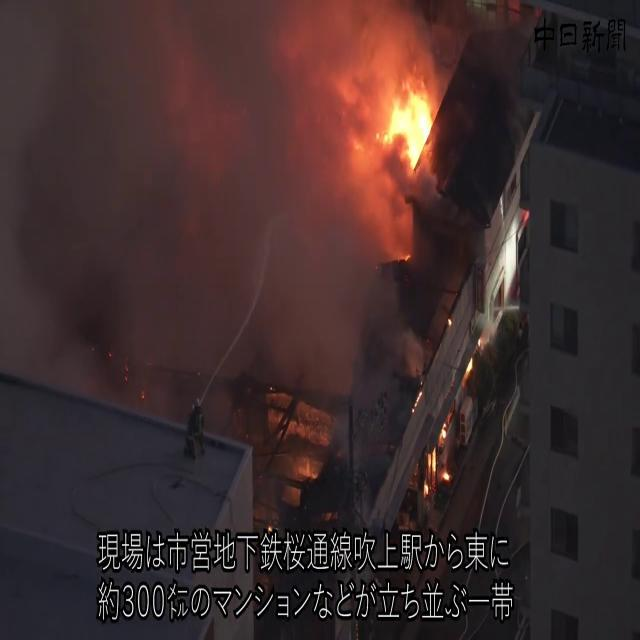Fire: (376, 73, 439, 175), (423, 417, 451, 499)
Smoke: (0, 0, 427, 394)
